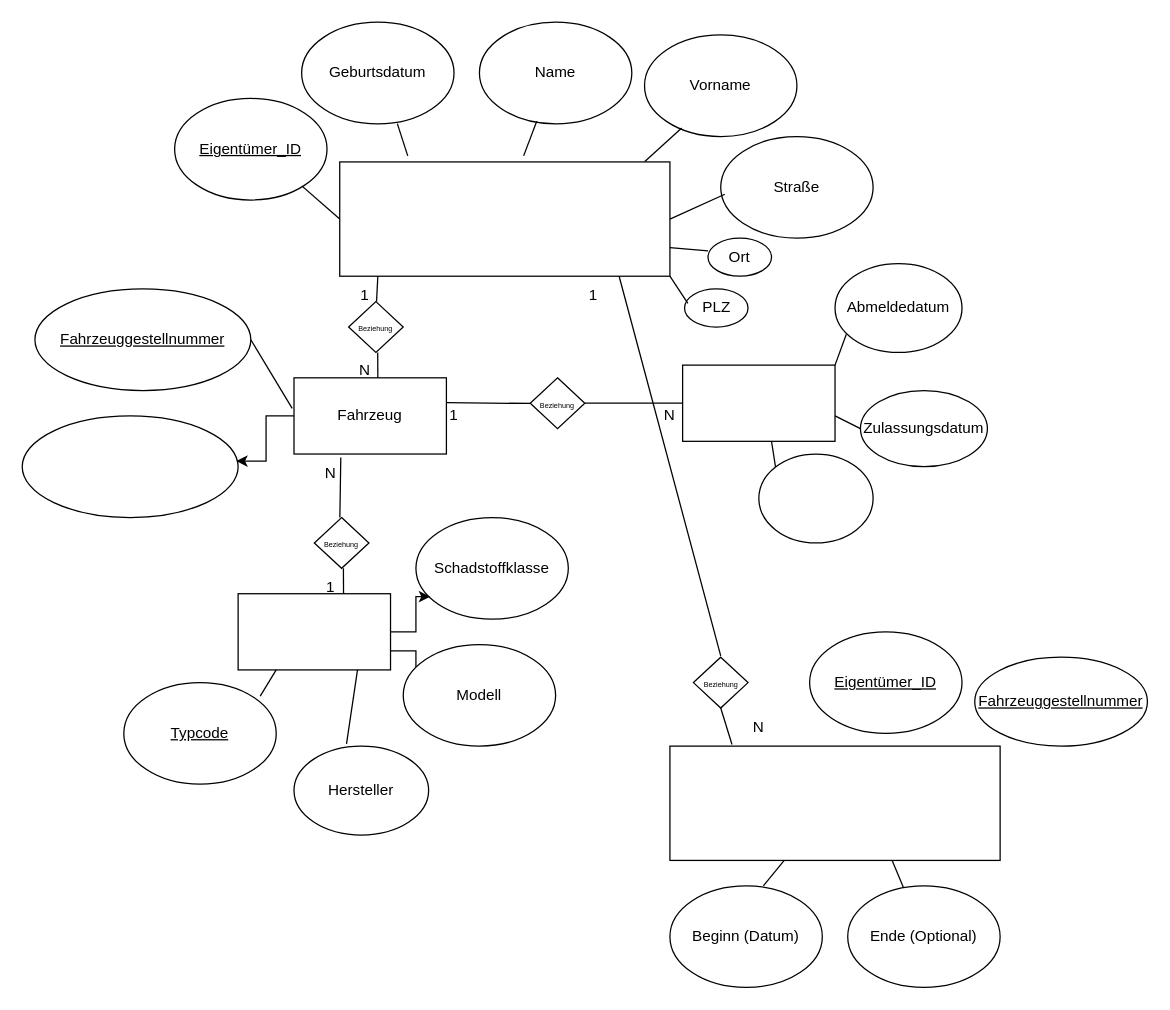
Image size: 1170x1010. Some labels were removed from this diagram. The shapes that lost their labels are listed below. From the top down, each one's centre as x and y in pixels, then its label:
At [504,218]: "Eigentümer".
At [758,402]: "Zulassung".
At [129,466]: "Baujahr".
At [815,498]: "Kennzeichen".
At [314,631]: "Typklasse".
At [834,802]: "Besitzverlauf".
